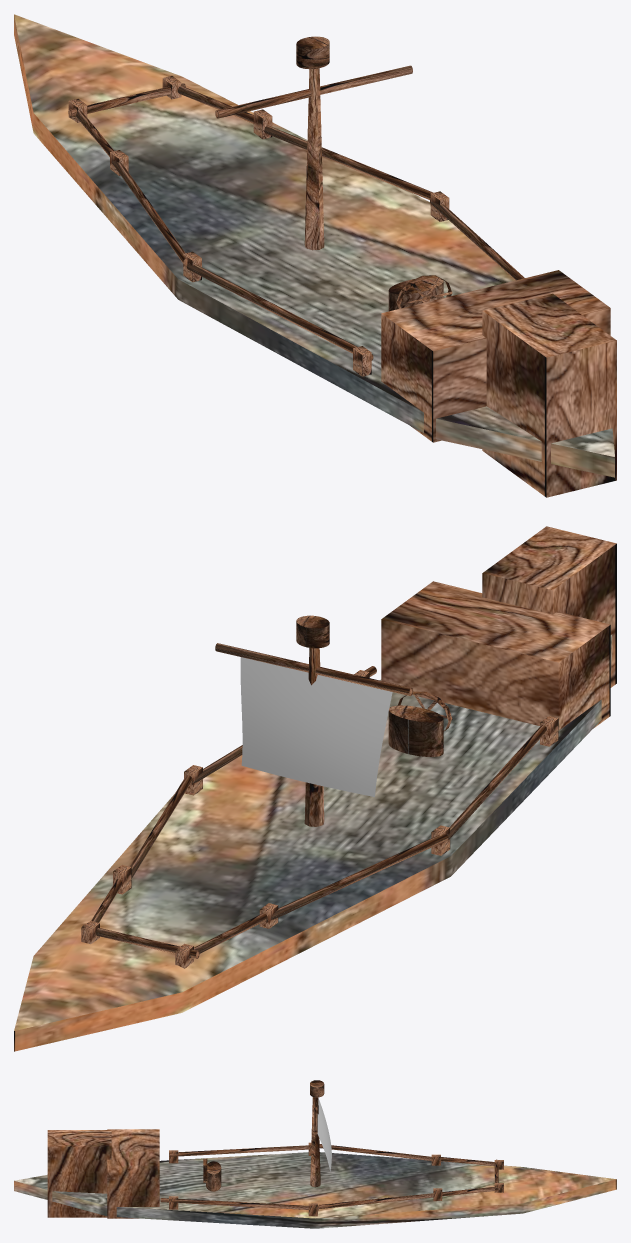
The model's file is boat_v2.glb.
The picture shows the model from 3 angles, top to bottom: view 1: azimuth 30°, elevation 25°; view 2: azimuth 150°, elevation 25°; view 3: azimuth 270°, elevation 25°; orthographic projection. The views are drawn at different scales.
Parts seen in each view (by area): view 1: ship_hull_col, Cube.009, Cube, ship_mast_col, Cylinder.002, Cylinder.009, Cylinder.006, Cylinder.007, Cylinder, Cylinder.001, Cylinder.008, Cylinder.003; view 2: ship_hull_col, Cube, SurfPatch, Cube.009, Cylinder, Cylinder.002, Cylinder.007, Cylinder.009, ship_mast_col, Cylinder.001, Cylinder.006, Cylinder.003; view 3: ship_hull_col, Cube.009, Cube, Cylinder.008, Cylinder.009, ship_mast_col, Cylinder.006, SurfPatch, Cylinder.007, Cylinder, Cylinder.004, Cylinder.005 (+1 smaller).
Part boxes in pixels (x1,y1,x2,y2): ship_hull_col: (14,14,614,477); Cube.009: (482,293,616,497); Cube: (381,270,610,442); ship_mast_col: (304,68,324,250); Cylinder.002: (215,65,412,118); Cylinder.009: (187,263,373,361); Cylinder.006: (264,125,433,199); Cylinder.007: (112,160,187,265); Cylinder: (388,278,443,311); Cylinder.001: (296,36,329,69); Cylinder.008: (430,199,524,280); Cylinder.003: (68,83,185,117); ship_hull_col: (14,634,612,1051); Cube: (381,581,610,730); SurfPatch: (240,657,392,796); Cube.009: (482,526,616,687); Cylinder: (388,705,443,756); Cylinder.002: (215,643,412,696); Cylinder.007: (263,833,447,923); Cylinder.009: (446,725,546,841); ship_mast_col: (304,648,324,826); Cylinder.001: (296,615,329,648); Cylinder.006: (130,775,192,878); Cylinder.003: (82,924,199,958); ship_hull_col: (14,1152,616,1228); Cube.009: (47,1130,111,1217); Cube: (107,1129,159,1218); Cylinder.008: (160,1198,318,1210); Cylinder.009: (169,1145,308,1156); ship_mast_col: (310,1097,320,1187); Cylinder.006: (318,1193,433,1208); SurfPatch: (317,1098,331,1171); Cylinder.007: (319,1144,441,1161); Cylinder: (206,1161,221,1191); Cylinder.004: (436,1187,499,1196); Cylinder.005: (441,1157,494,1166).
Bounding box in the file's own units: 9.83 × 8.6 × 37.55.
Materials: 6 (6 with a texture image).
